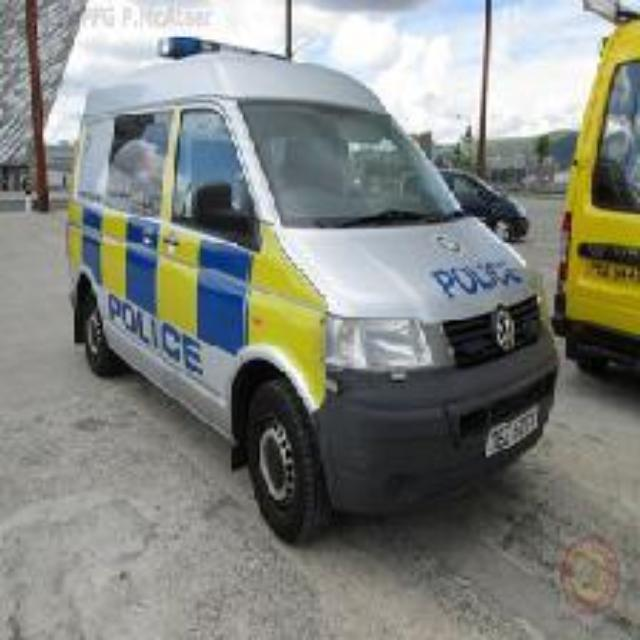emergency: (69, 34, 554, 534)
